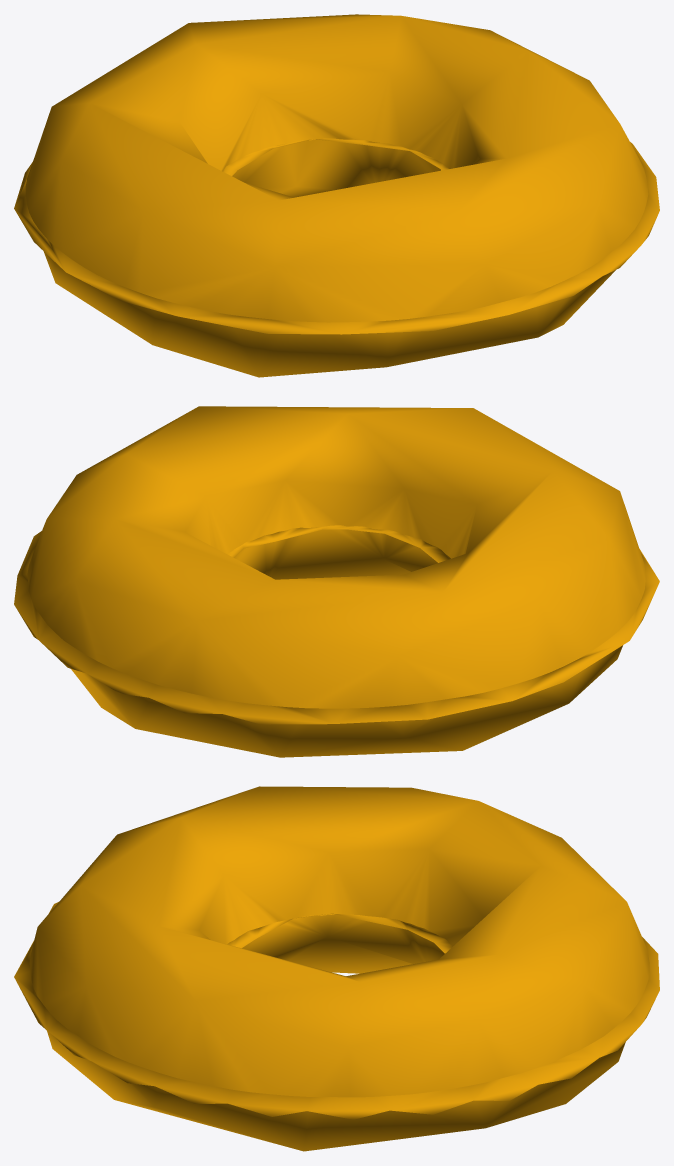
File: lowpolypoolring.fbx
The picture shows the model from 3 angles, top to bottom: view 1: azimuth 30°, elevation 25°; view 2: azimuth 150°, elevation 25°; view 3: azimuth 270°, elevation 25°; orthographic projection.
Parts seen in each view (by area): view 1: Torus; view 2: Torus; view 3: Torus.
Part boxes in pixels (box(x1,y1,x2,y2)): Torus: box(14, 14, 659, 377); Torus: box(14, 406, 659, 757); Torus: box(14, 786, 659, 1151).
Bounding box in the file's own units: 298 × 81.66 × 297.
